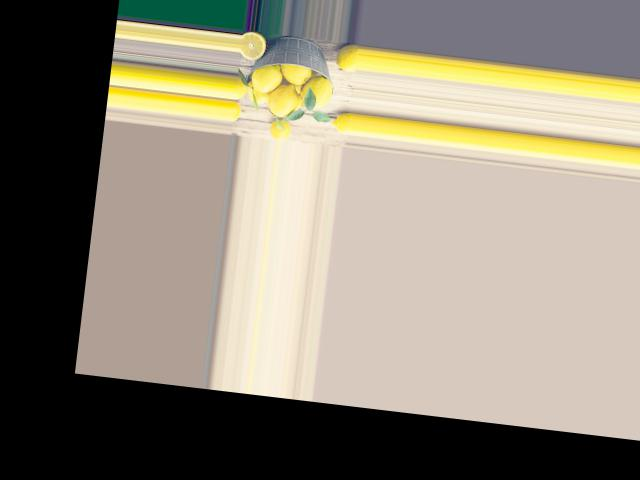lemon: (249, 53, 288, 95)
